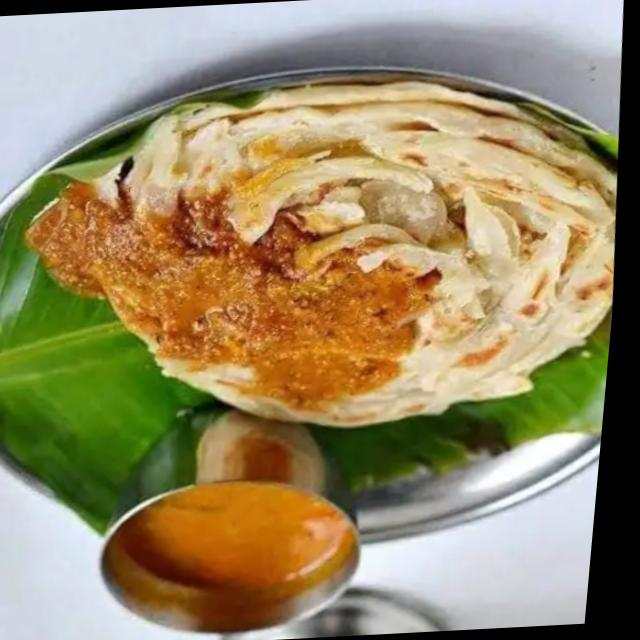CURRY: (115, 485, 355, 600)
PAROTTA: (24, 80, 617, 432)
